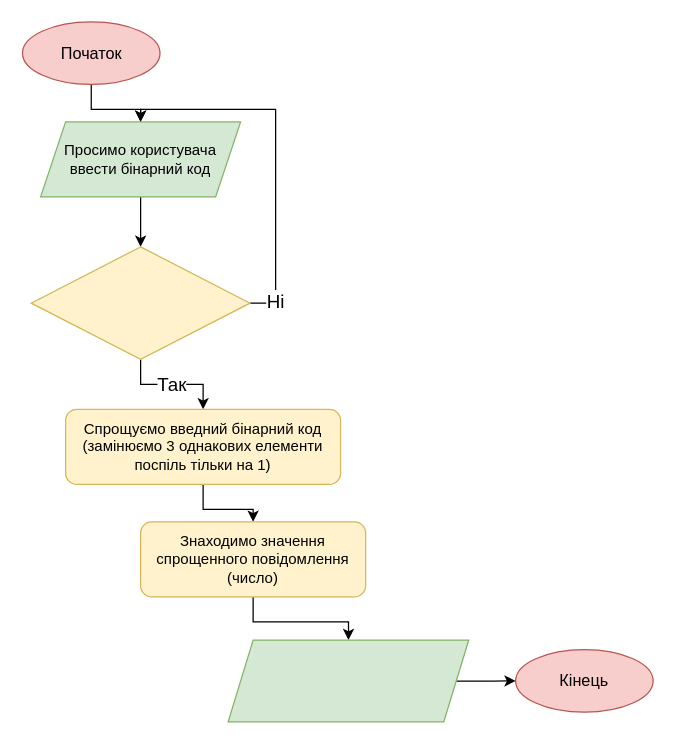
Some shapes in this 675 by 744 pixel diagram are drawn without their labels. Each missing label, with the box of its shape:
Виводимо спрощений бінарний код та його значення в 10ій формі: (227, 639, 469, 722)
Всі символи строки дорівнюють 1 або 0?: (30, 246, 250, 359)
